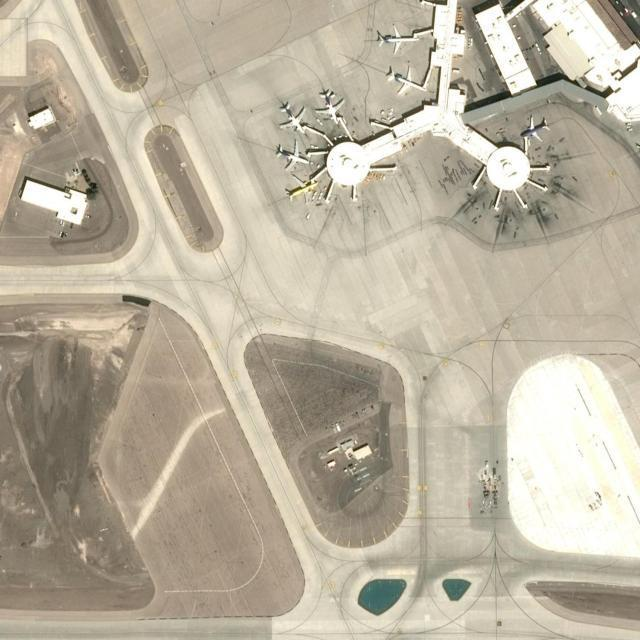Aircraft: (376, 22, 421, 53), (273, 136, 310, 171), (386, 64, 427, 94), (313, 89, 345, 123), (284, 174, 320, 204), (518, 113, 552, 144), (277, 99, 307, 133)
